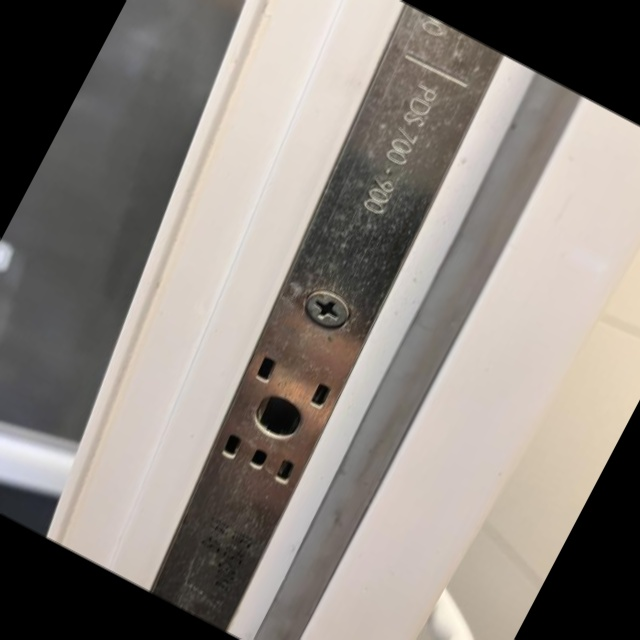phillips: (298, 282, 357, 337)
